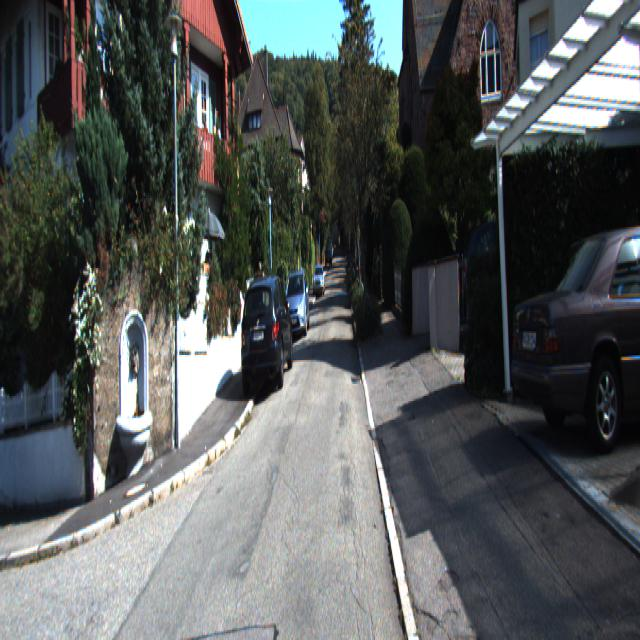Car: (512, 217, 640, 462), (240, 265, 294, 395), (284, 267, 310, 337), (313, 264, 325, 297)
